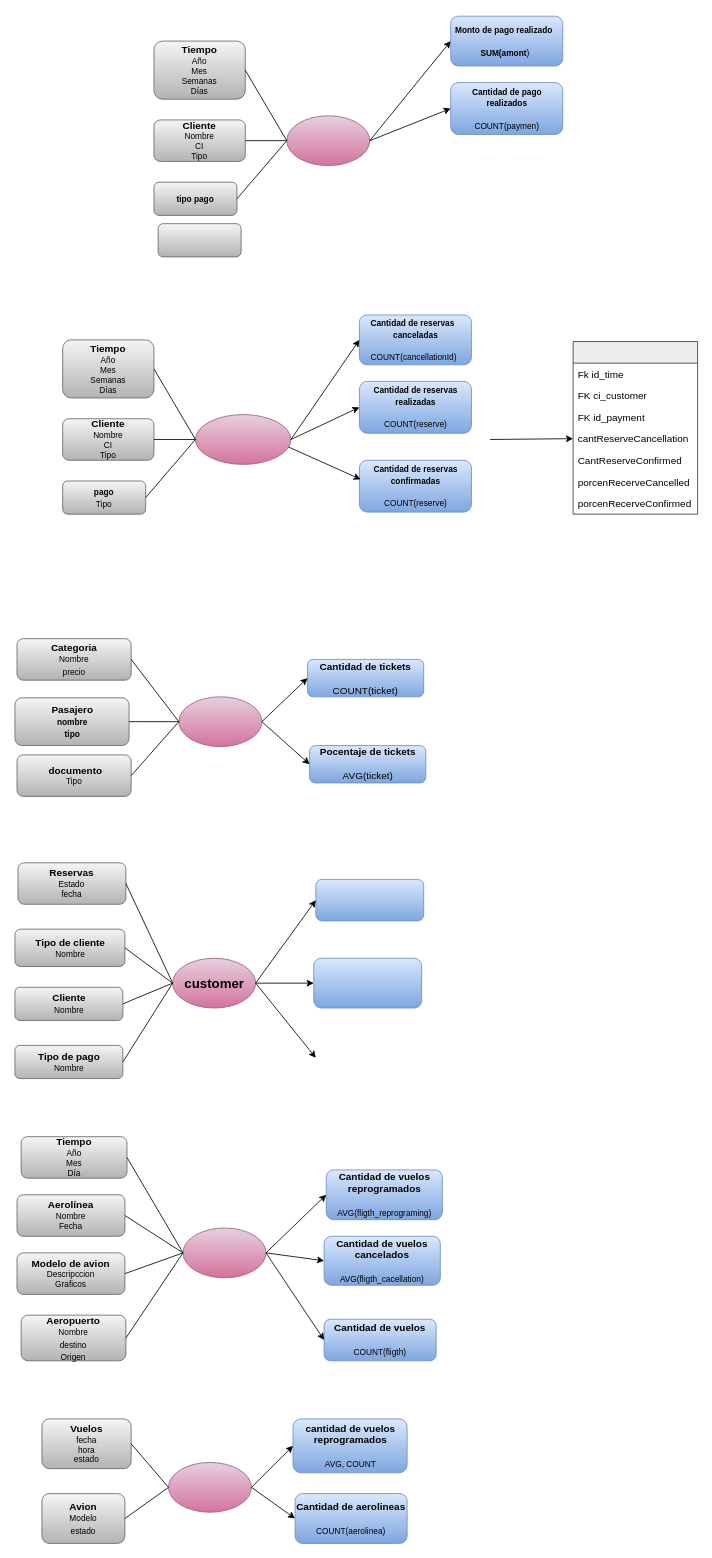
Some shapes in this 712 by 1558 pixel diagram are drawn without their labels. The box of each missing label's shape, as (x1, y1, x2, y2) in pixels:
Aerolinea: (168, 1462, 251, 1512)
Cantidad de clientes COUNT: (315, 879, 424, 921)
Cantidad de reservas canceladas COUNT: (313, 957, 422, 1008)
hechoReservation: (572, 341, 698, 514)
modo de pago: (157, 223, 241, 257)
Pago: (286, 115, 370, 166)
Reservas: (195, 414, 291, 464)
ticket: (178, 696, 262, 747)
Vuelo: (182, 1227, 266, 1278)
